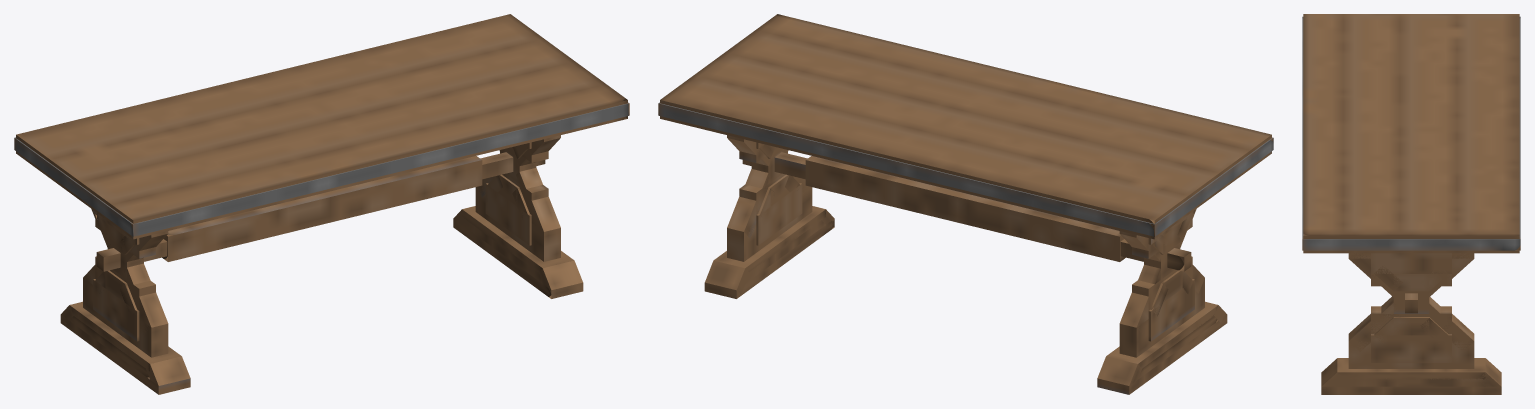
File: table.dae
The picture shows the model from 3 angles, left to right: view 1: azimuth 30°, elevation 25°; view 2: azimuth 150°, elevation 25°; view 3: azimuth 270°, elevation 25°; orthographic projection. The views are drawn at different scales.
Visible parts, largest first — view 1: cube (×20); view 2: cube (×21); view 3: cube (×29).
Part boxes in pixels (box(x1,y1,x2,y2)): cube (×20): box(14, 14, 628, 394); cube (×21): box(659, 14, 1273, 394); cube (×29): box(1302, 14, 1520, 394).
Size of the model in its own units: 2.93 by 1.07 by 1.21.
